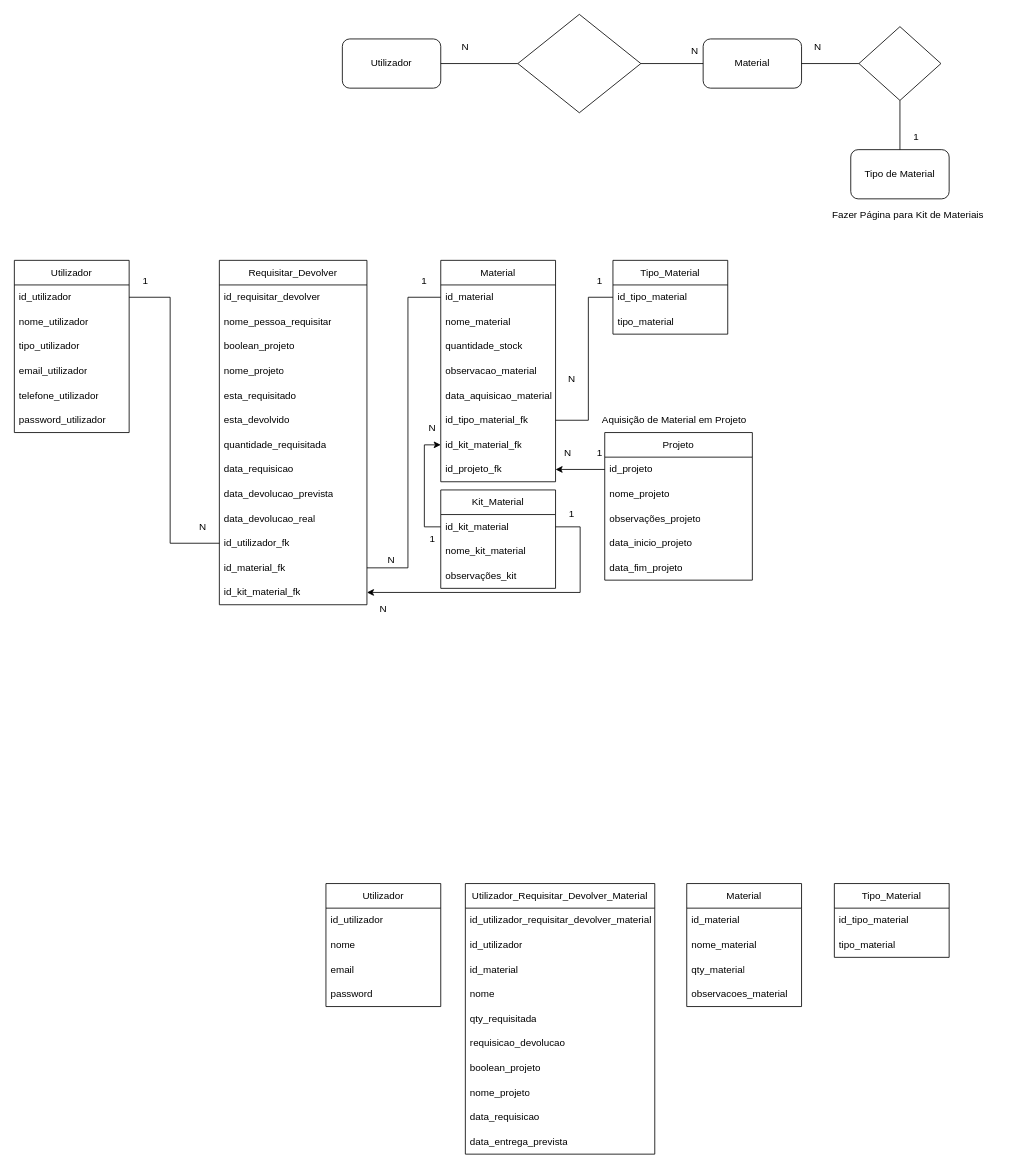
Image size: 1013x1169. Some labels were removed from this diagram. Here are the shapes that lost their labels. From the top down, the box of each, then its label:
(517, 14, 641, 113): Requistar/Devolver
(858, 26, 941, 100): Possui
